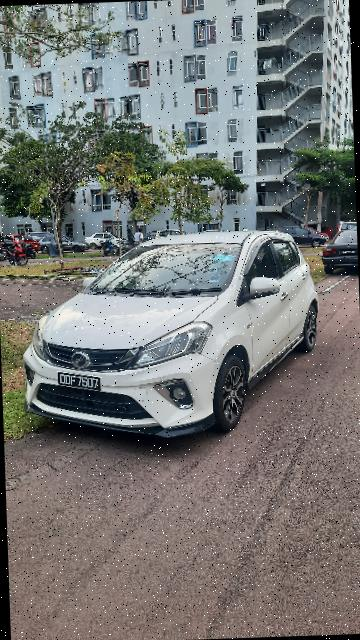License_Plate: (57, 366, 104, 399)
car: (16, 228, 329, 453)
